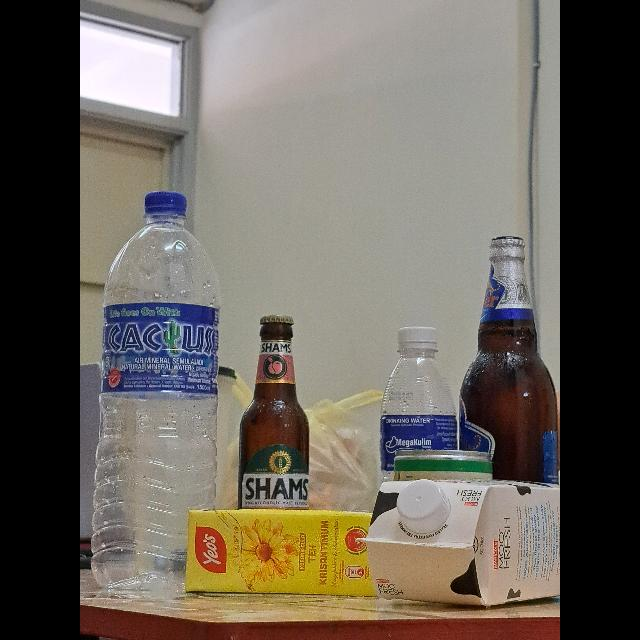caixinha: (364, 484, 560, 608), (186, 508, 377, 596)
garrafa de vidro: (462, 233, 560, 495), (240, 310, 312, 522)
garrafa plástica: (97, 224, 230, 600), (382, 323, 462, 507)
tampa plástica: (396, 482, 446, 538), (143, 186, 187, 222), (399, 321, 437, 354)
